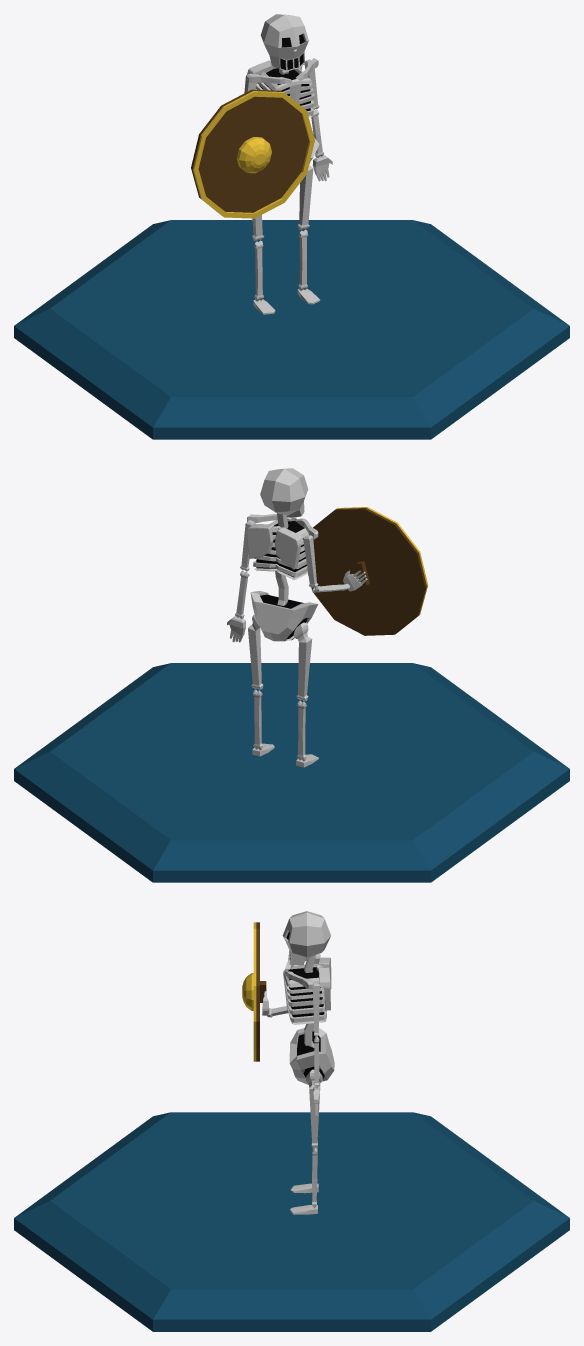
Rendered from Shield_Figure_Scalone.fbx.
3 renders of one model, top to bottom at view 1: azimuth 30°, elevation 25°; view 2: azimuth 150°, elevation 25°; view 3: azimuth 270°, elevation 25°, orthographic.
Parts seen in each view (by area): view 1: Hand Left; view 2: Hand Left; view 3: Hand Left.
Boxes of the visible parts, x1,y1,x2,y2 form: Hand Left: [14, 14, 569, 439]; Hand Left: [14, 468, 569, 882]; Hand Left: [14, 911, 569, 1331].
Bounding box in the file's own units: 483 × 352 × 558.
